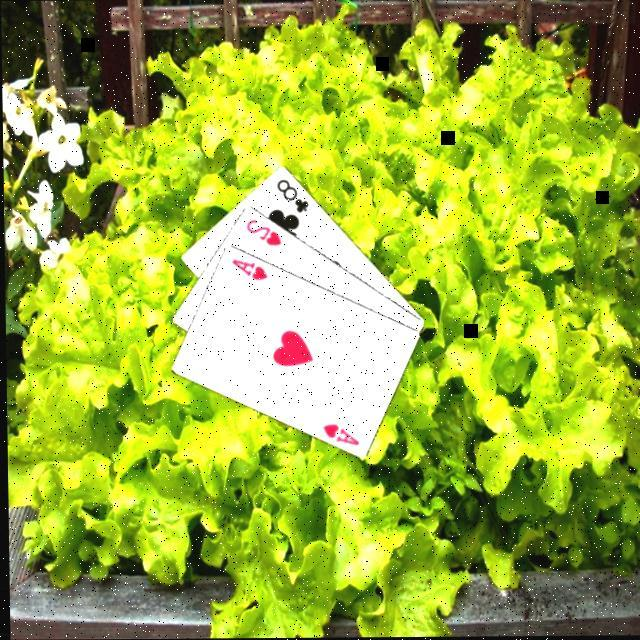2H: (244, 213, 284, 246)
8C: (274, 174, 312, 214)
AH: (228, 253, 270, 281), (319, 418, 361, 446)
